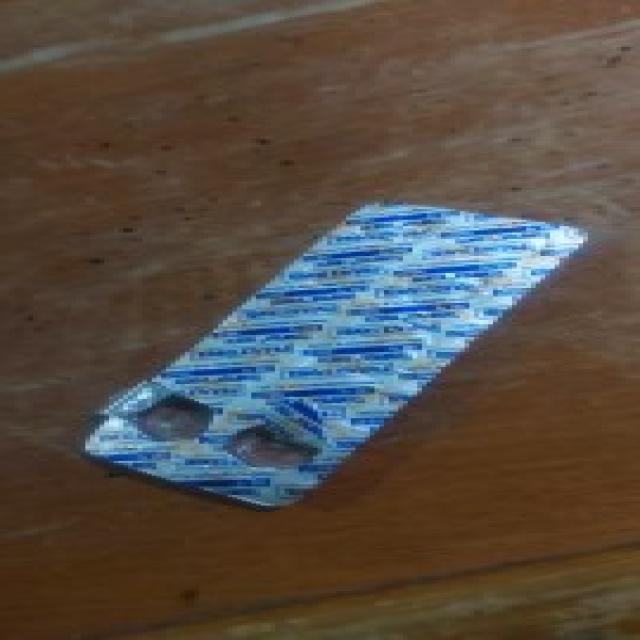Cacat: (83, 203, 593, 507)
Kemasan: (222, 415, 332, 475), (117, 388, 218, 452)
